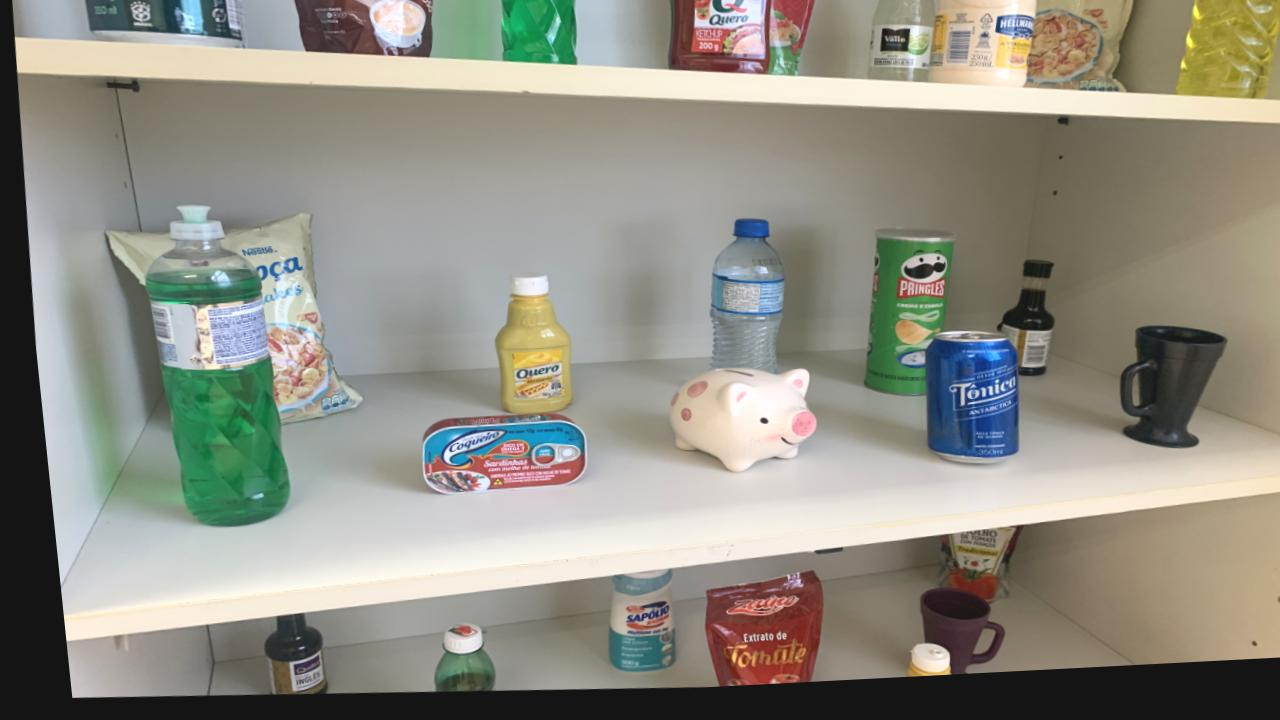Cleaner-Cleanup_Items: (593, 576, 661, 678)
Coffee-Pantry_Items: (293, 0, 433, 61)
Detergent-Cleanup_Items: (138, 207, 279, 528), (1172, 0, 1280, 113), (500, 0, 576, 70)
English_Sauce-Pantry_Items: (990, 272, 1046, 386), (250, 616, 313, 697)
Flakes-Snacks: (217, 218, 352, 424), (1024, 0, 1133, 104), (101, 232, 164, 283)
Guarana-Drinks: (420, 628, 480, 696)
Guarana_Can-Drinks: (85, 0, 243, 49)
Ketchup-Pantry_Items: (667, 0, 772, 82)
Mayonnaise-Pantry_Items: (926, 0, 1036, 97)
Mustard-Pantry_Items: (487, 280, 563, 419), (891, 653, 936, 686)
Pig_Safe-Miscellaneous: (661, 376, 807, 480)
Pringles-Snacks: (855, 239, 949, 404)
Soda-Drinks: (865, 0, 934, 92)
Tomato_Sauce-Pantry_Items: (690, 579, 810, 693), (924, 537, 1010, 612), (765, 0, 817, 84)
Tonic-Drinks: (916, 342, 1010, 473)
Tuna_Can-Pantry_Items: (412, 419, 577, 499)
Water_Bottle-Drinks: (701, 226, 778, 380)
